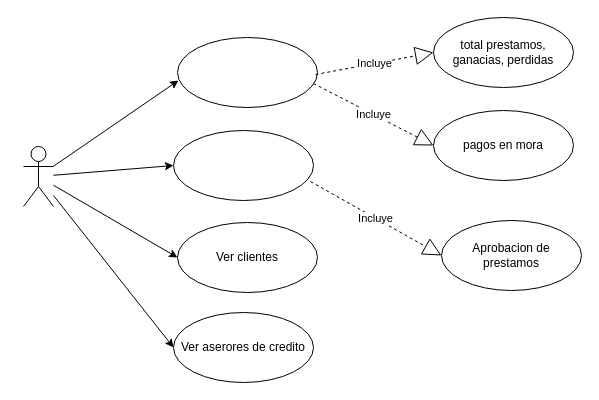
Image size: 599x400. Some labels were removed from this diagram. The shapes that lost their labels are listed below. From the top down, each one's centre as x and y in pixels, then its label:
At point (247, 72): "Ver metricas de prestamos".
At point (38, 176): "Gerente".
At point (243, 165): "Ver solicitudes de prestamos".
